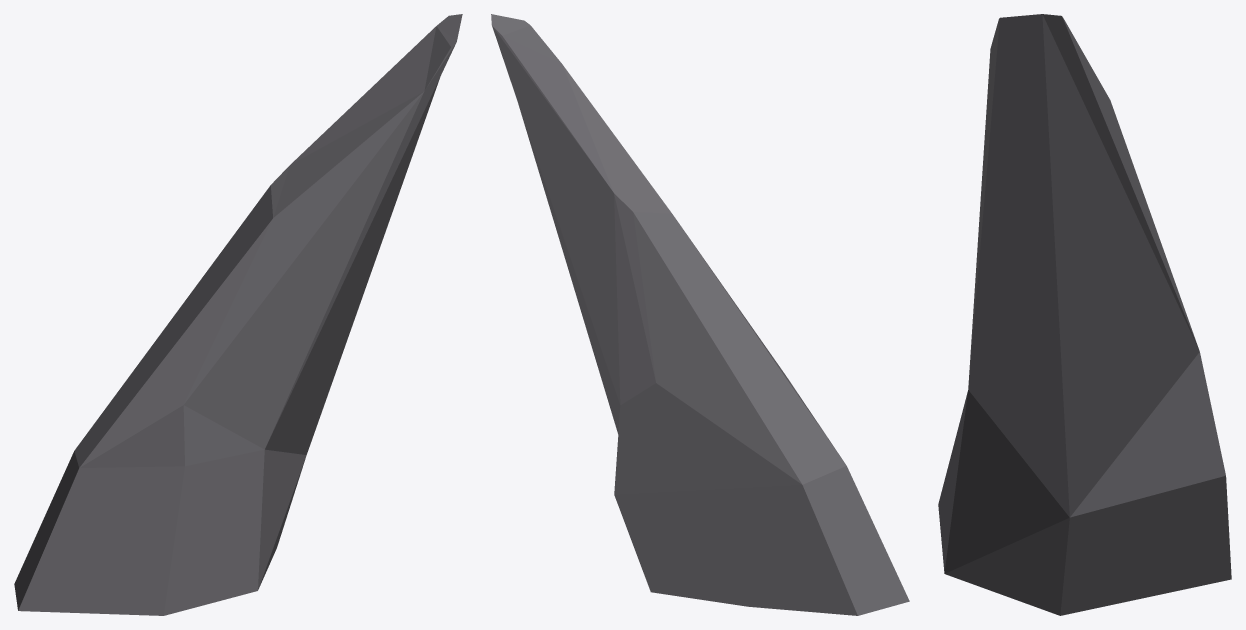
File: Rock_Sharp_m_11 2.fbx
3 views of the same model, side by side, from view 1: azimuth 30°, elevation 25°; view 2: azimuth 150°, elevation 25°; view 3: azimuth 270°, elevation 25° (orthographic). The views are drawn at different scales.
Visible parts, largest first — view 1: Rock_Sharp_m_11; view 2: Rock_Sharp_m_11; view 3: Rock_Sharp_m_11.
Boxes of the visible parts, box(x1,y1,x2,y2) form: Rock_Sharp_m_11: box(14, 14, 462, 615); Rock_Sharp_m_11: box(491, 14, 909, 615); Rock_Sharp_m_11: box(938, 14, 1231, 615).
Size of the model in its own units: 166 by 180 by 64.98.
